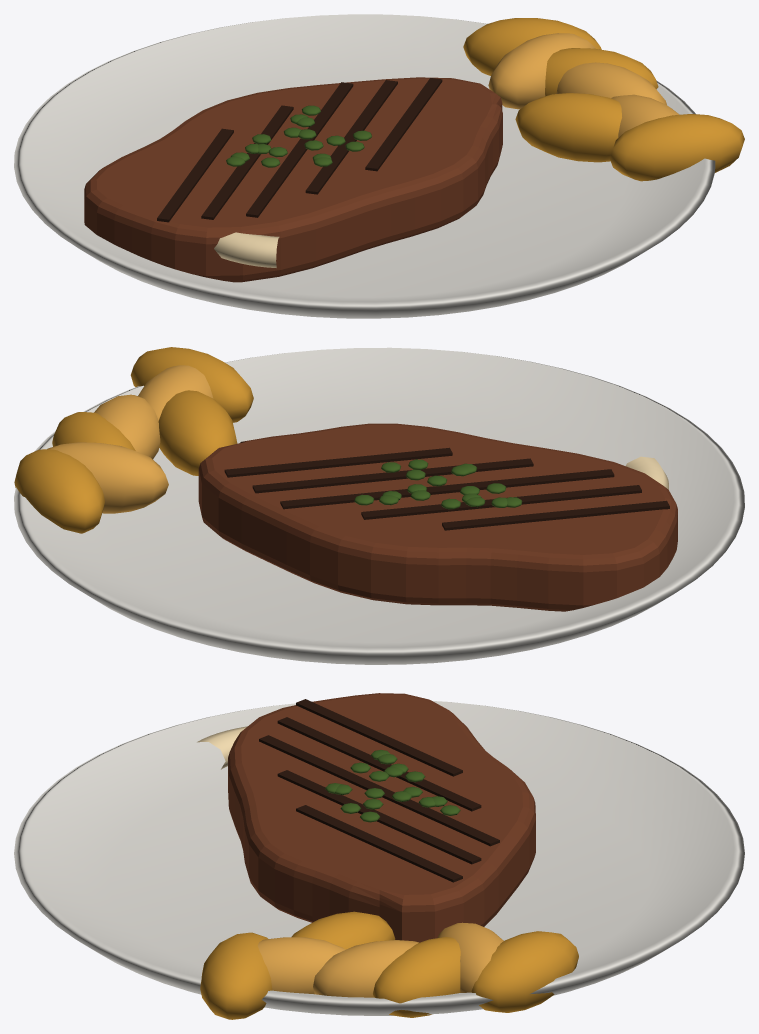
File: bife.glb
3 renders of one model, top to bottom at view 1: azimuth 30°, elevation 25°; view 2: azimuth 150°, elevation 25°; view 3: azimuth 270°, elevation 25°, orthographic. The views are drawn at different scales.
Size of the model in its own units: 0.2813 by 0.0344 by 0.28.
